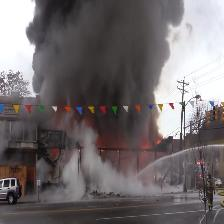smoke: (37, 2, 152, 105), (64, 128, 100, 195)
